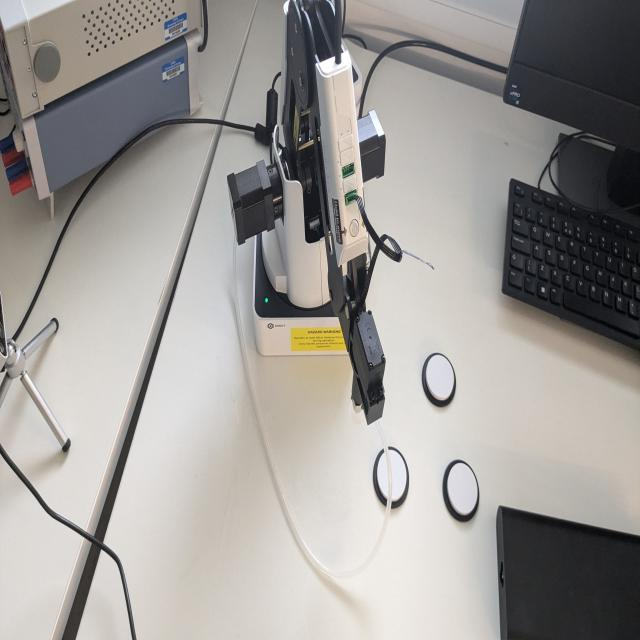Robot-end-effector-HF8z: (347, 302, 389, 432)
